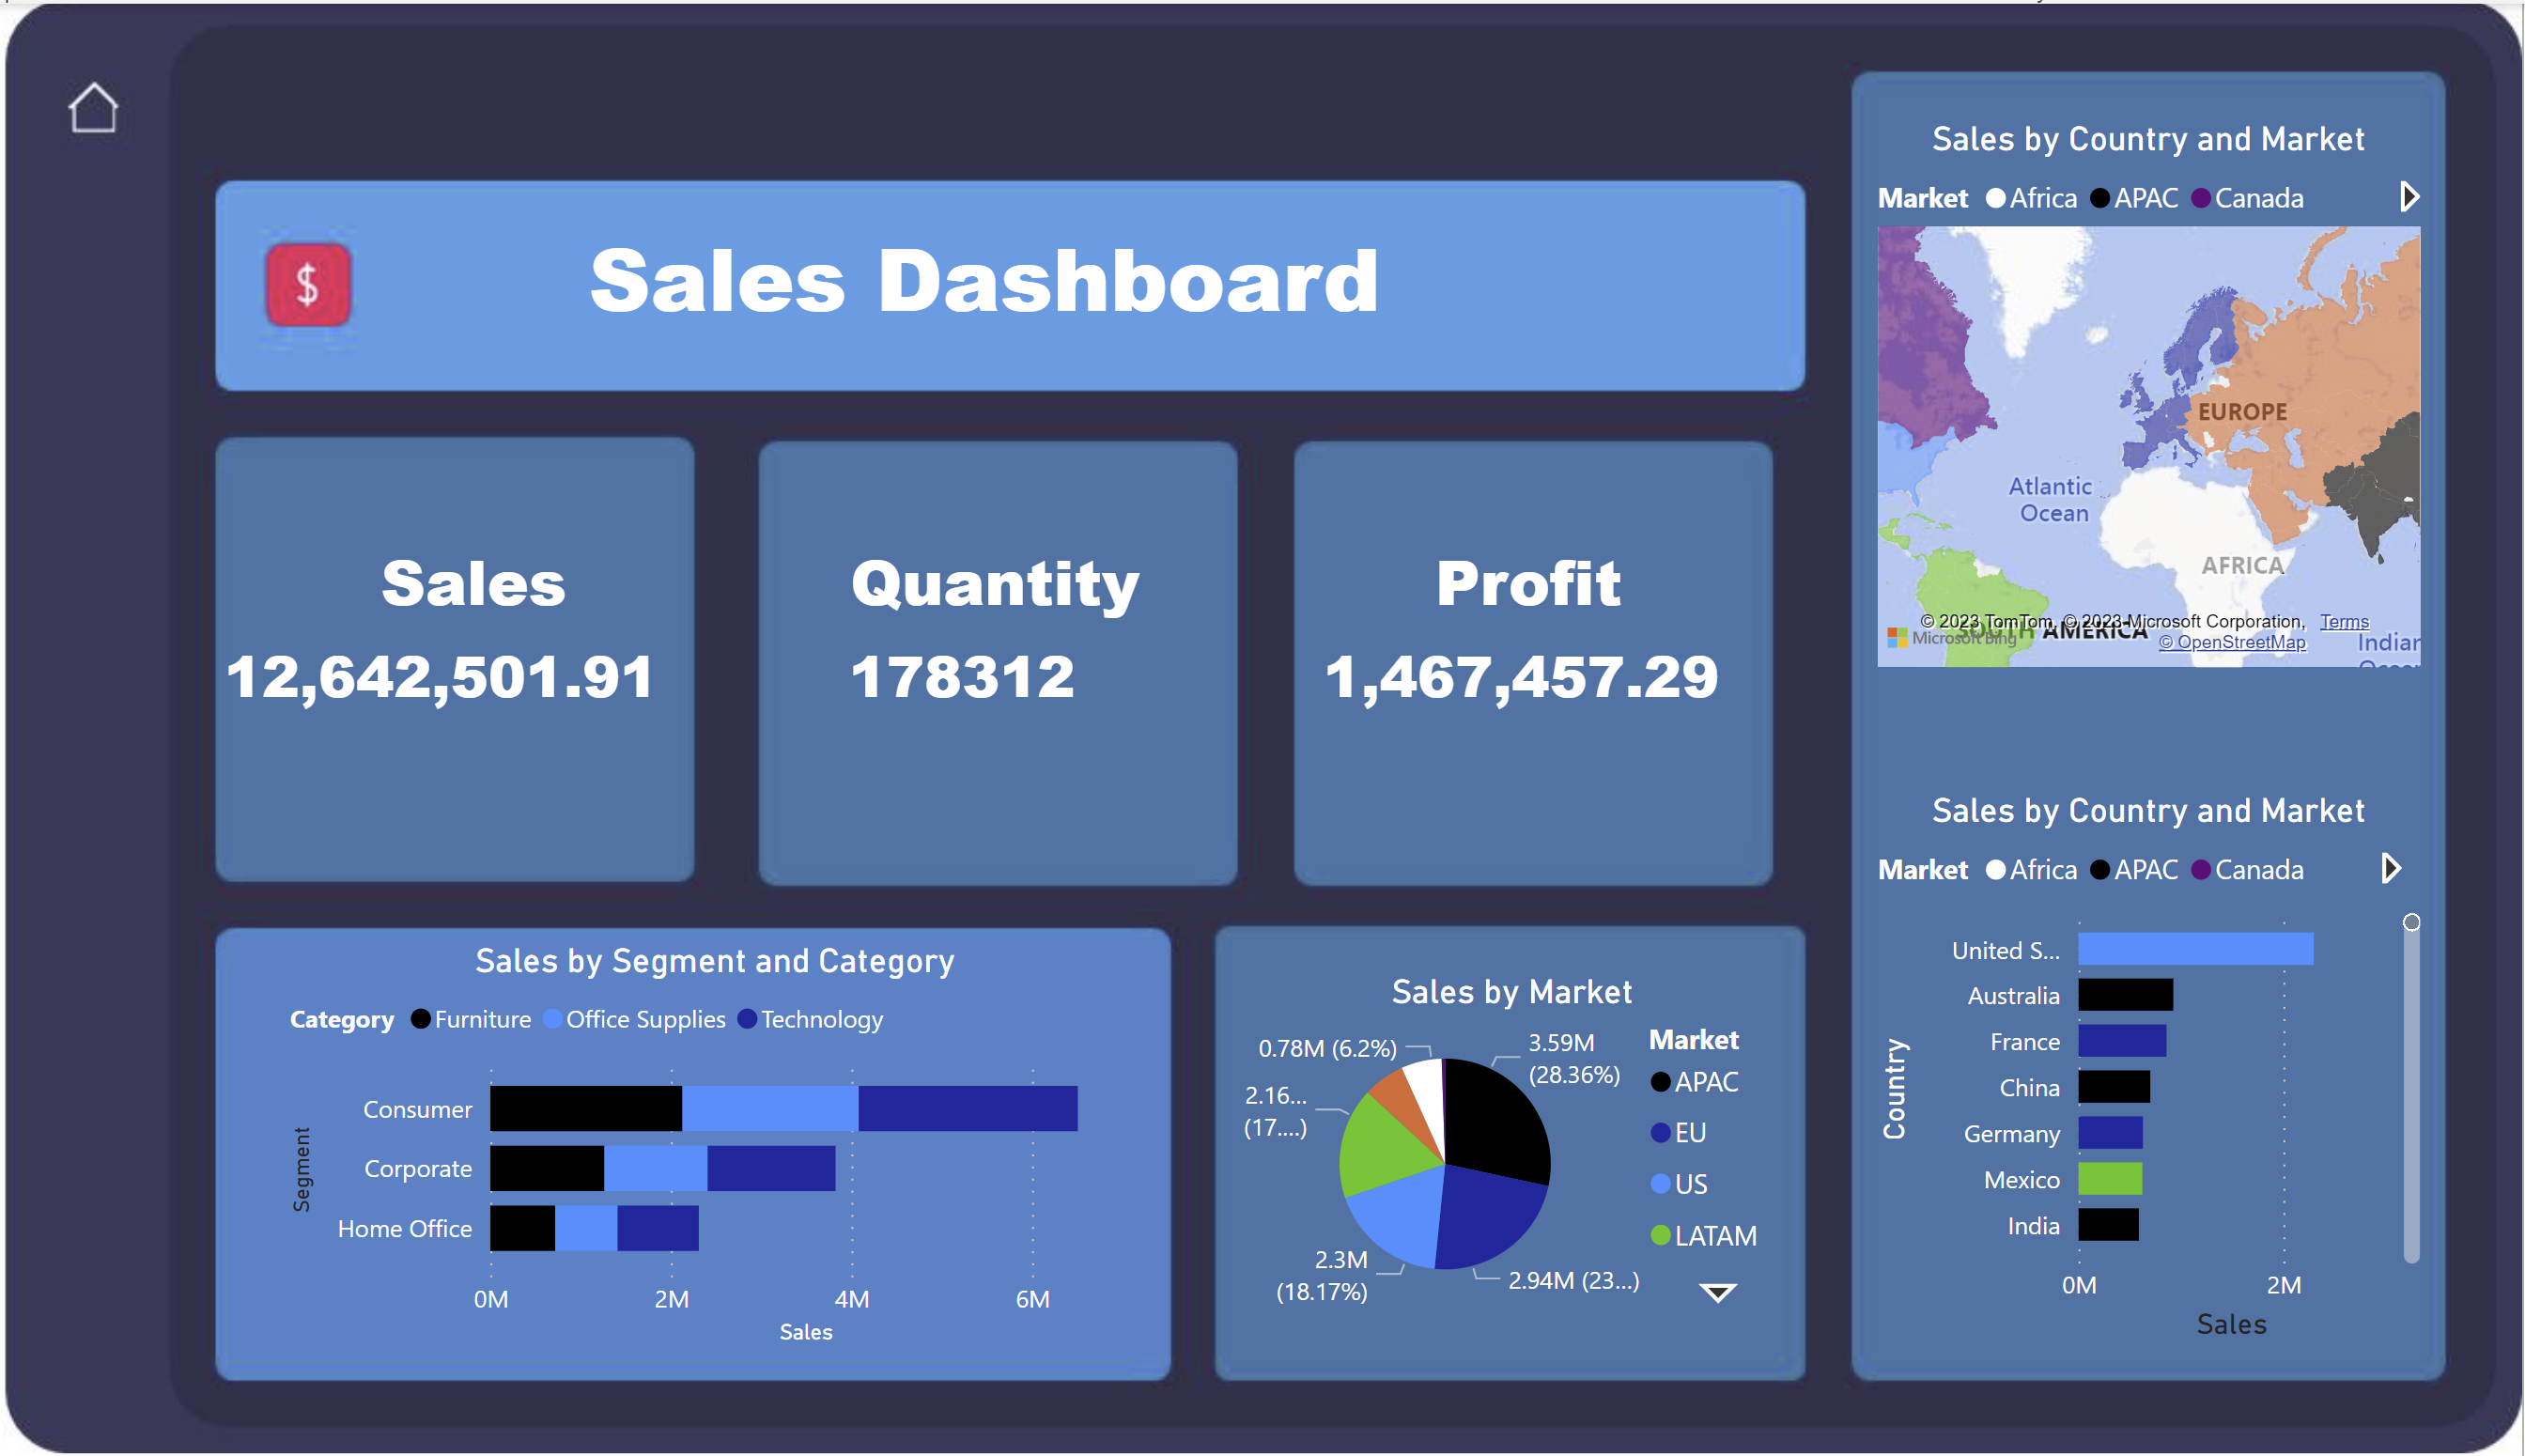

The page's visual inventory and layout, read from the dashboard file:
{"tool":"powerbi","page":{"name":"Page 1","canvas":[1280,720],"ordinal":0},"visuals":[{"type":"multiRowCard","title":"Sales","fields":{"Values":["Sum(superstore data.Sales)"]},"box":[137.1,263.4,256.9,126.3],"z":0},{"type":"multiRowCard","title":"Quantity","fields":{"Values":["Sum(superstore data.Quantity)"]},"box":[446.3,263.4,154.6,95.8],"z":1000},{"type":"multiRowCard","title":"Profit","fields":{"Values":["Sum(superstore data.Profit)"]},"box":[681.4,263.4,213.3,126.3],"z":2000},{"type":"barChart","fields":{"Y":["Sum(superstore data.Sales)"],"Category":["superstore data.Segment"],"Series":["superstore data.Category"]},"box":[169.8,463.7,431,204.6],"z":3000},{"type":"pieChart","fields":{"Y":["Sum(superstore data.Sales)"],"Category":["superstore data.Market"]},"box":[640,478.9,278.6,172],"z":4000},{"type":"barChart","fields":{"Y":["Sum(superstore data.Sales)"],"Category":["superstore data.Country"],"Series":["superstore data.Market"]},"box":[955.6,389.7,278.6,276.5],"z":5000},{"type":"textbox","box":[317.8,100.1,470.2,95.8],"z":6000},{"type":"filledMap","fields":{"Category":["superstore data.Country"],"Series":["superstore data.Market"]},"box":[955.6,56.6,278.6,276.5],"z":6001}]}

Visuals, with their boxes in screenshot pixels (x1, y1, x2, y2), scaled from the page's 1280x720 canvas onto the 2525x1456 screenshot:
"Sales" multiRowCard: pyautogui.locateOnScreen(271, 533, 777, 788)
"Quantity" multiRowCard: pyautogui.locateOnScreen(880, 533, 1185, 726)
"Profit" multiRowCard: pyautogui.locateOnScreen(1344, 533, 1765, 788)
barChart - Sum(superstore data.Sales) x superstore data.Segment: pyautogui.locateOnScreen(335, 937, 1185, 1352)
pieChart - Sum(superstore data.Sales) x superstore data.Market: pyautogui.locateOnScreen(1262, 968, 1812, 1316)
barChart - Sum(superstore data.Sales) x superstore data.Country: pyautogui.locateOnScreen(1885, 788, 2435, 1347)
textbox: pyautogui.locateOnScreen(627, 202, 1555, 396)
filledMap - superstore data.Country x superstore data.Market: pyautogui.locateOnScreen(1885, 115, 2435, 674)
